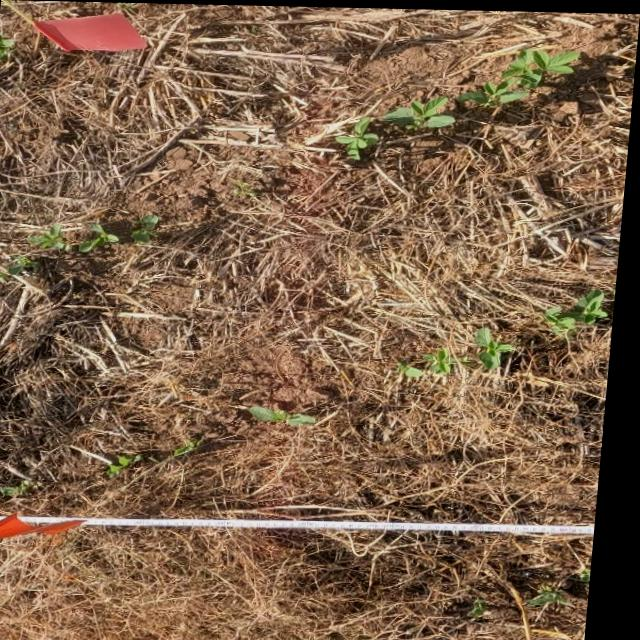soy_plant: (459, 47, 580, 104), (31, 214, 161, 253), (549, 287, 613, 333), (384, 95, 456, 127), (403, 346, 478, 375), (338, 115, 380, 158), (480, 325, 520, 367), (252, 404, 325, 425), (0, 254, 39, 290), (115, 453, 163, 475), (537, 582, 579, 603), (468, 594, 500, 619), (175, 437, 210, 456), (235, 178, 261, 197), (0, 33, 14, 59)
